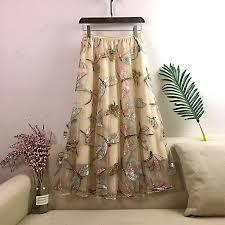skirt: (54, 29, 183, 196)
